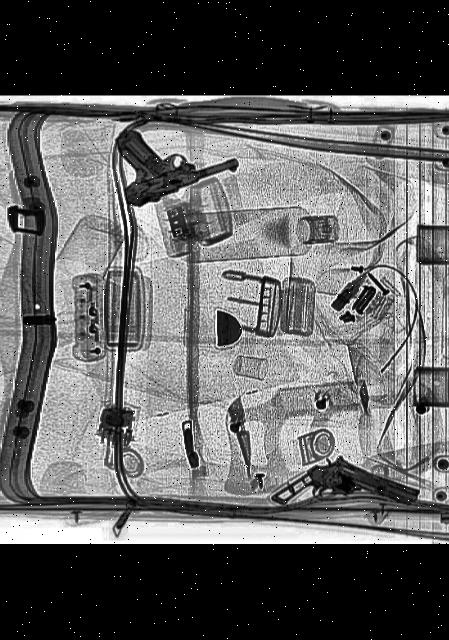Gun: (90, 103, 238, 208), (269, 445, 418, 544)
